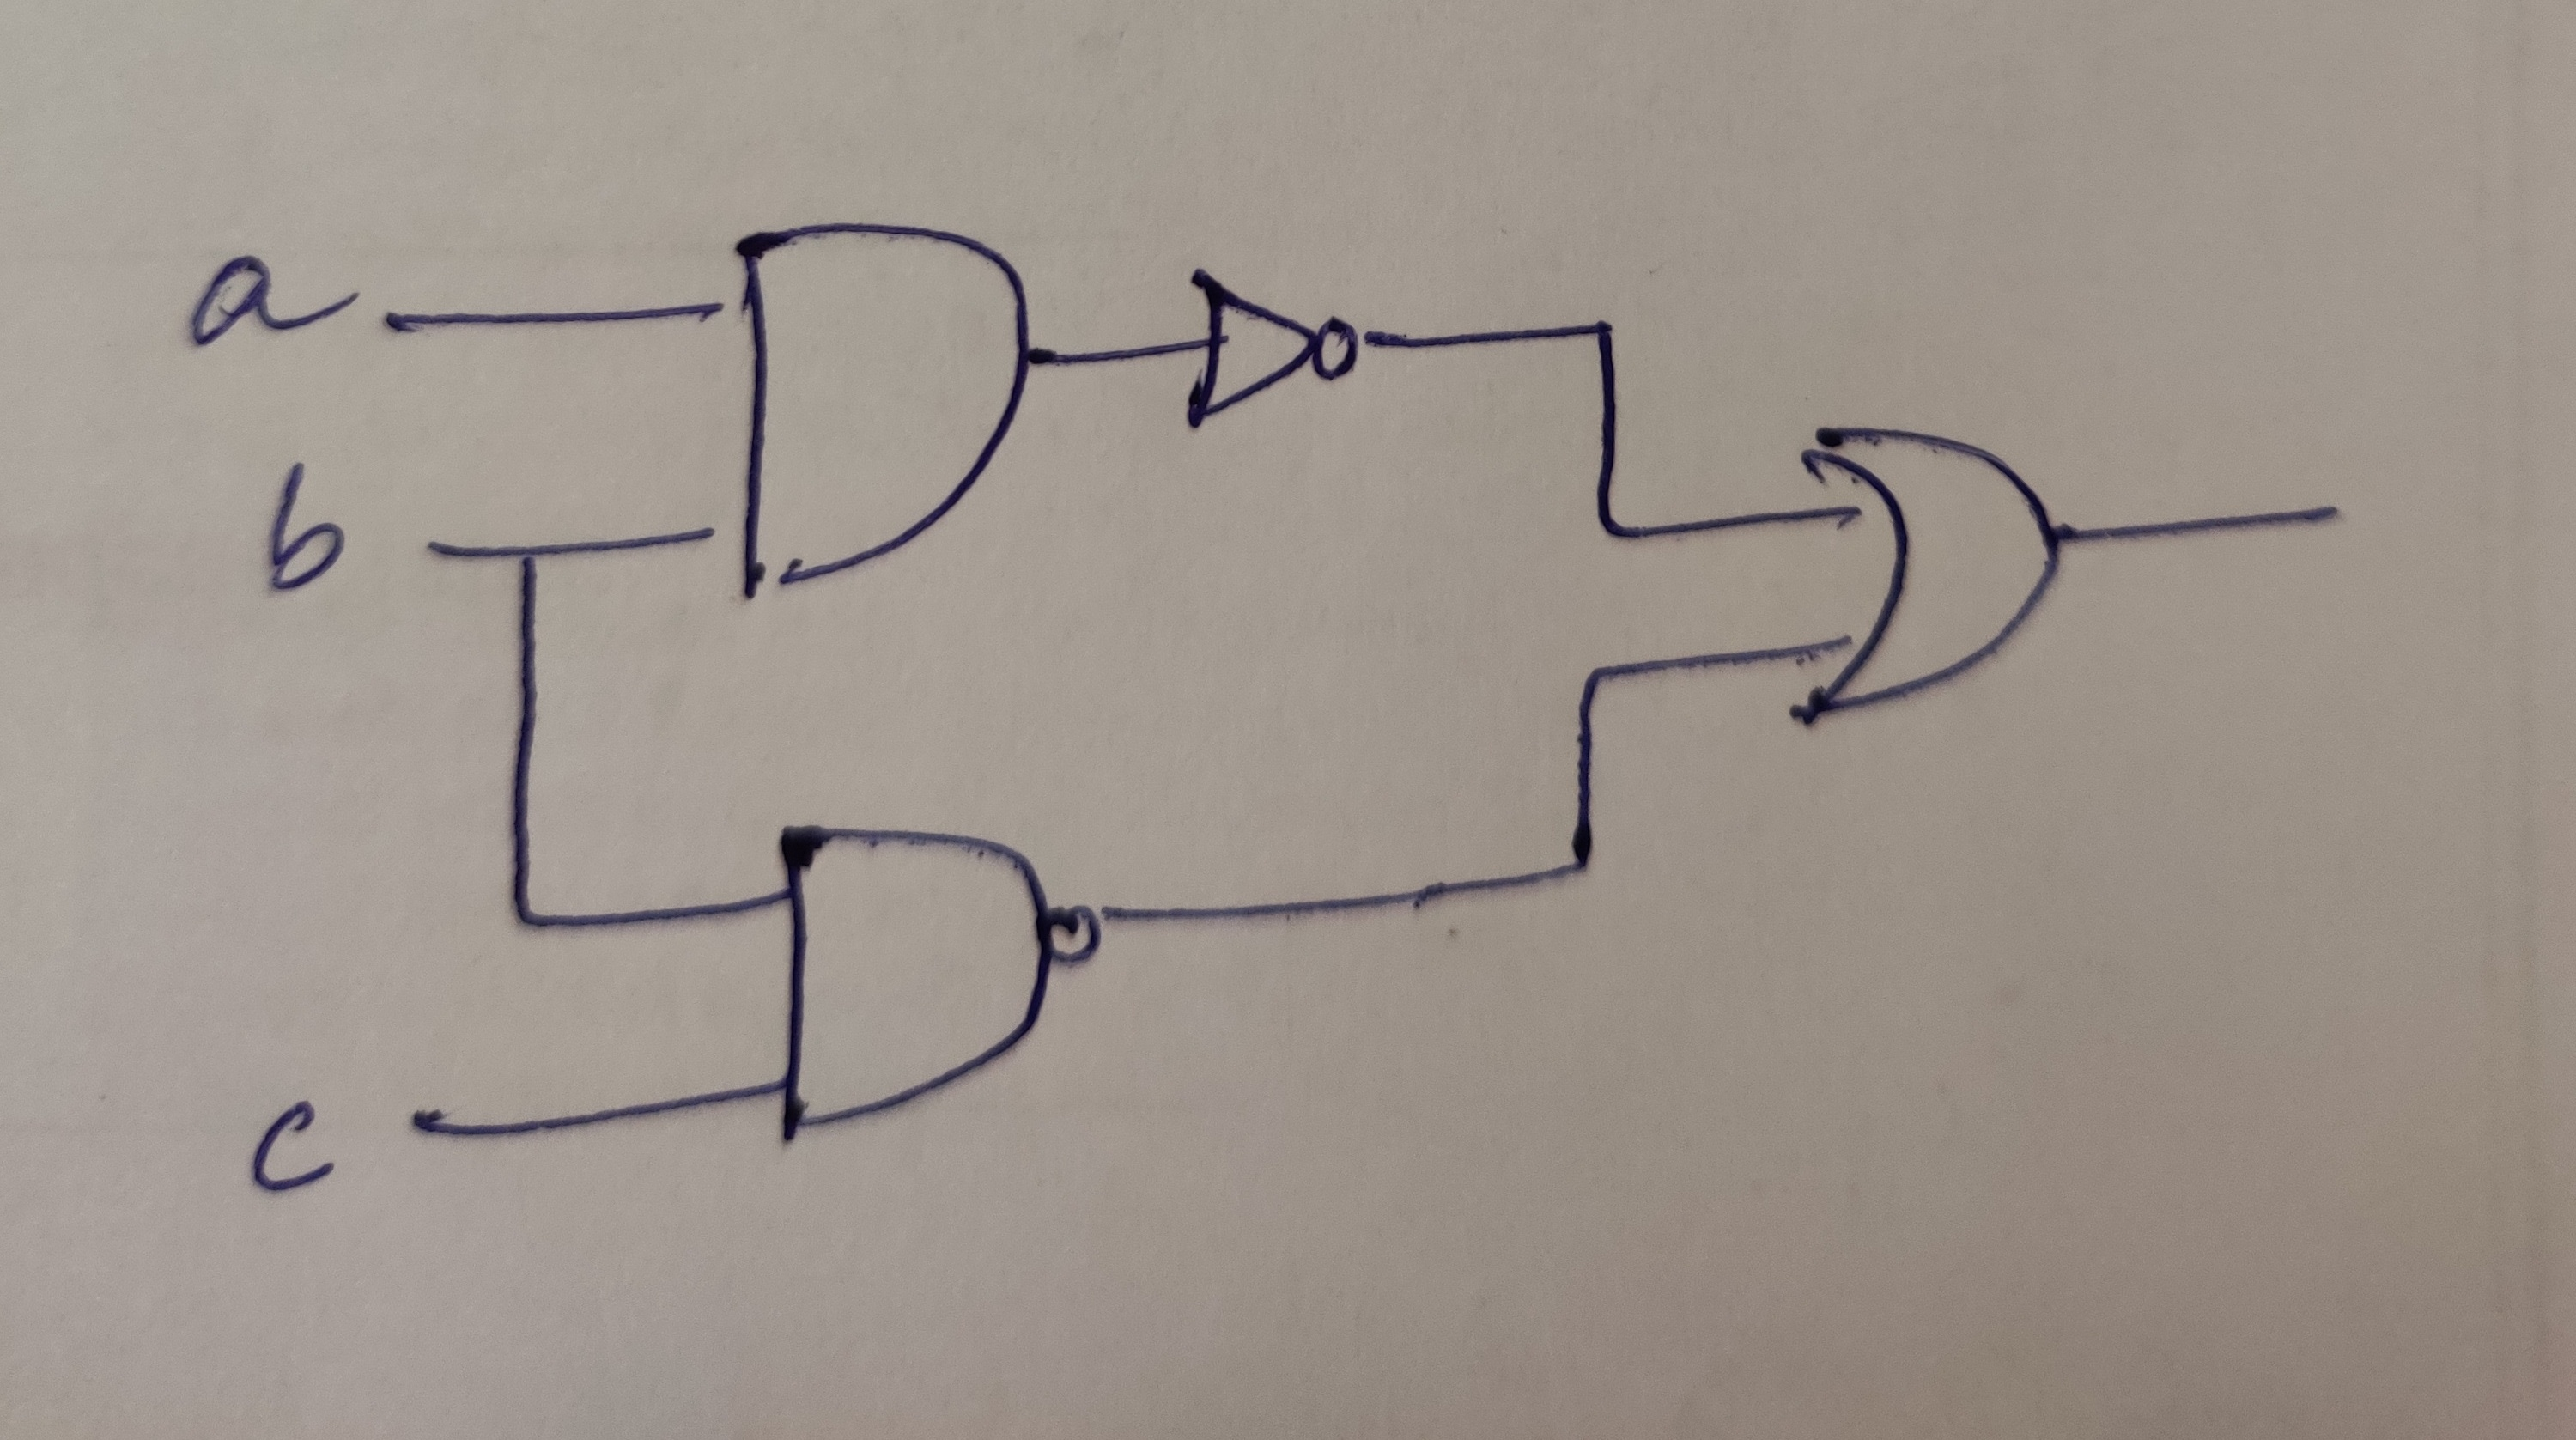and: (679, 163, 1046, 609)
nand: (741, 780, 1141, 1206)
or: (1752, 364, 2093, 748)
